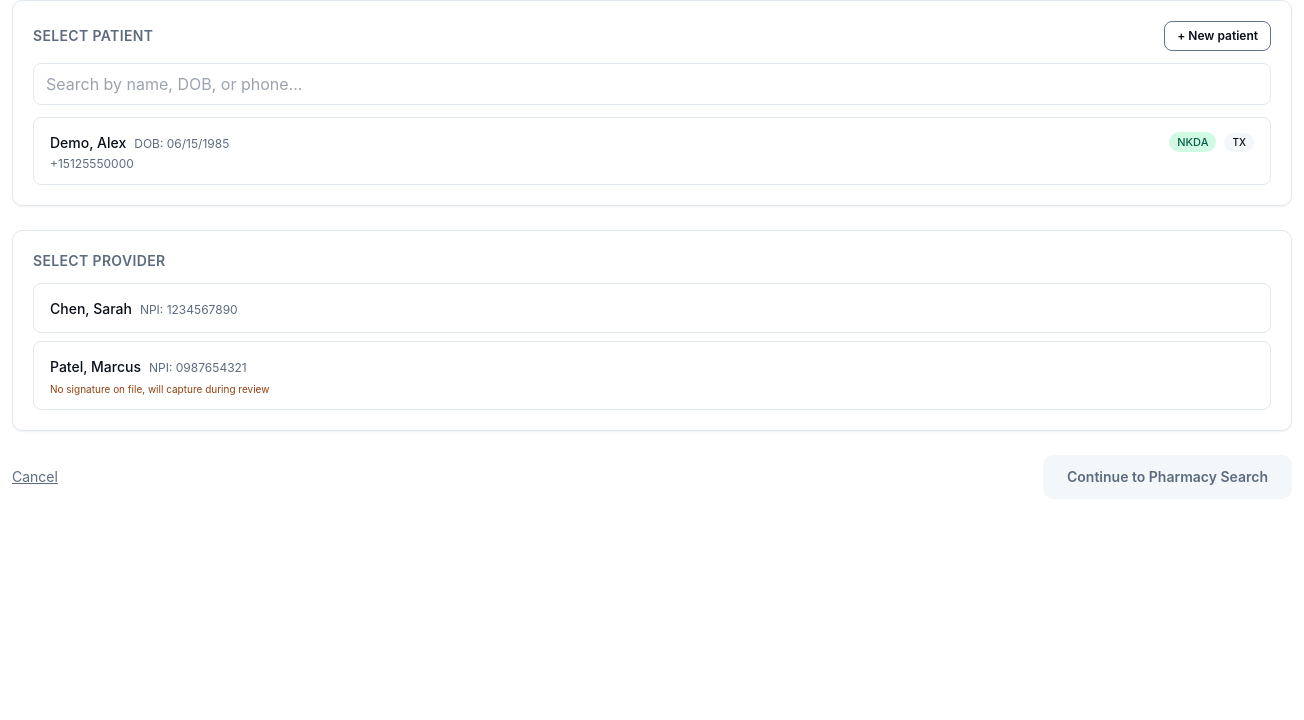
PatientProviderSelector — MA / clinic admin (unchanged) › shows the provider list and requires a provider pick
Expected: the heading "Select Provider" is shown, [33,252,166,269]
Expected: the button "Chen, Sarah" is shown, [33,283,1271,333]
Click the button "Demo, Alex".
click(88, 142)  # box [34,118,1270,184]
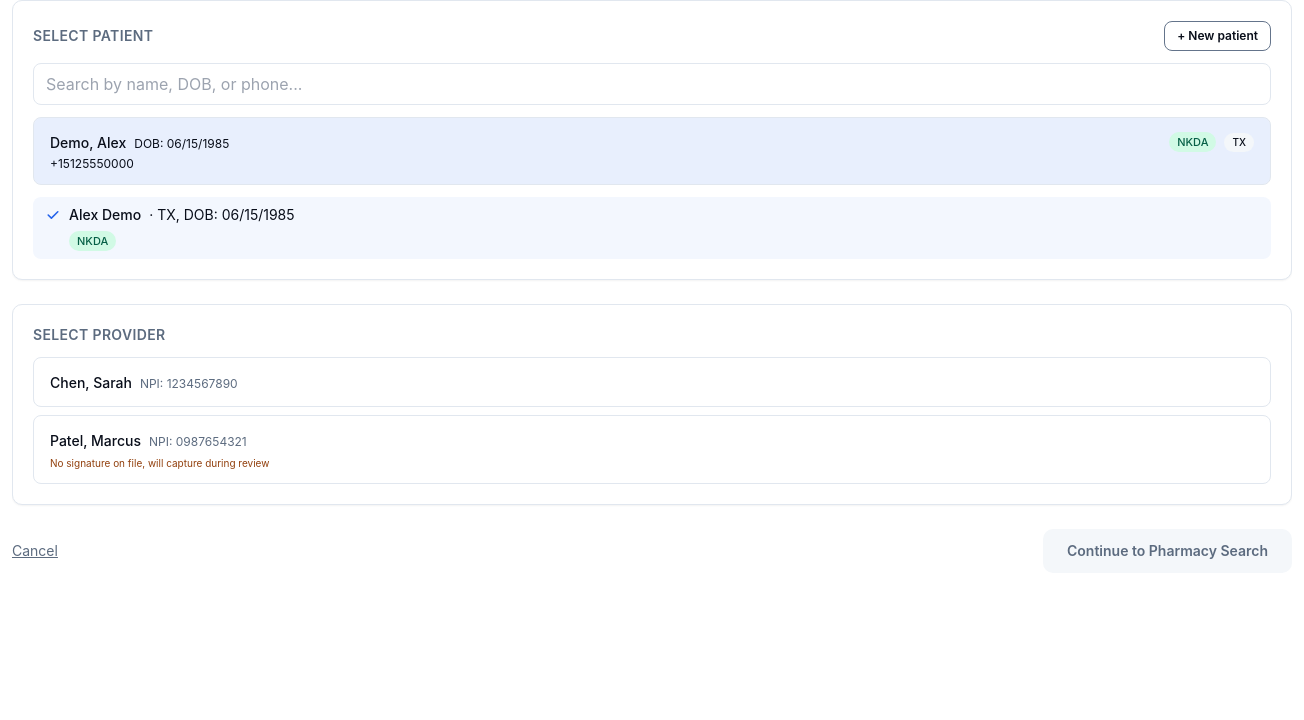
Expected: the button "Continue to Pharmacy Search" is disabled, [1043,529,1292,573]
Click the button "Patel, Marcus".
click(67, 440)  # box [33,415,1271,484]
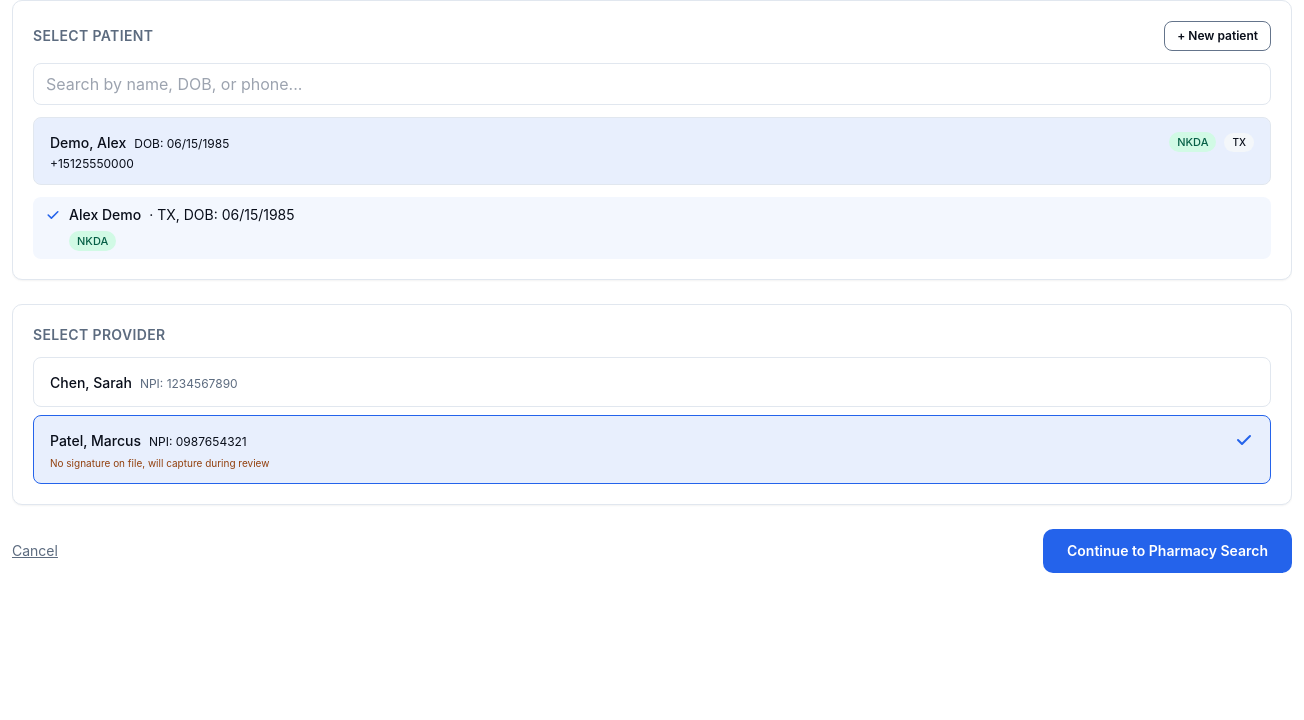
Expected: the button "Continue to Pharmacy Search" is enabled, [1043,529,1292,573]
